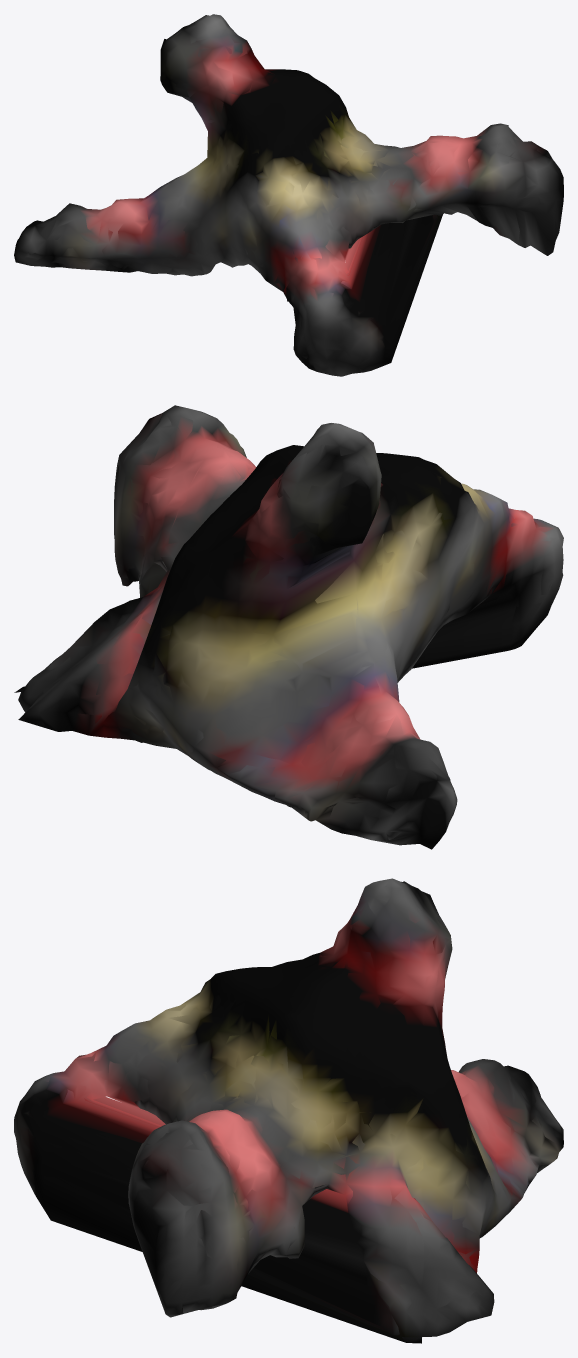
File: soviet_flak_cannon.glb
The picture shows the model from 3 angles, top to bottom: view 1: azimuth 30°, elevation 25°; view 2: azimuth 150°, elevation 25°; view 3: azimuth 270°, elevation 25°; orthographic projection. The views are drawn at different scales.
Parts seen in each view (by area): view 1: soviet_flak_cannon; view 2: soviet_flak_cannon; view 3: soviet_flak_cannon.
Part boxes in pixels (left/top/right/bottom): soviet_flak_cannon: left=14, top=14, right=563, bottom=376; soviet_flak_cannon: left=14, top=405, right=563, bottom=849; soviet_flak_cannon: left=14, top=878, right=563, bottom=1343.
Size of the model in its own units: 1.85 by 1.15 by 1.79.
